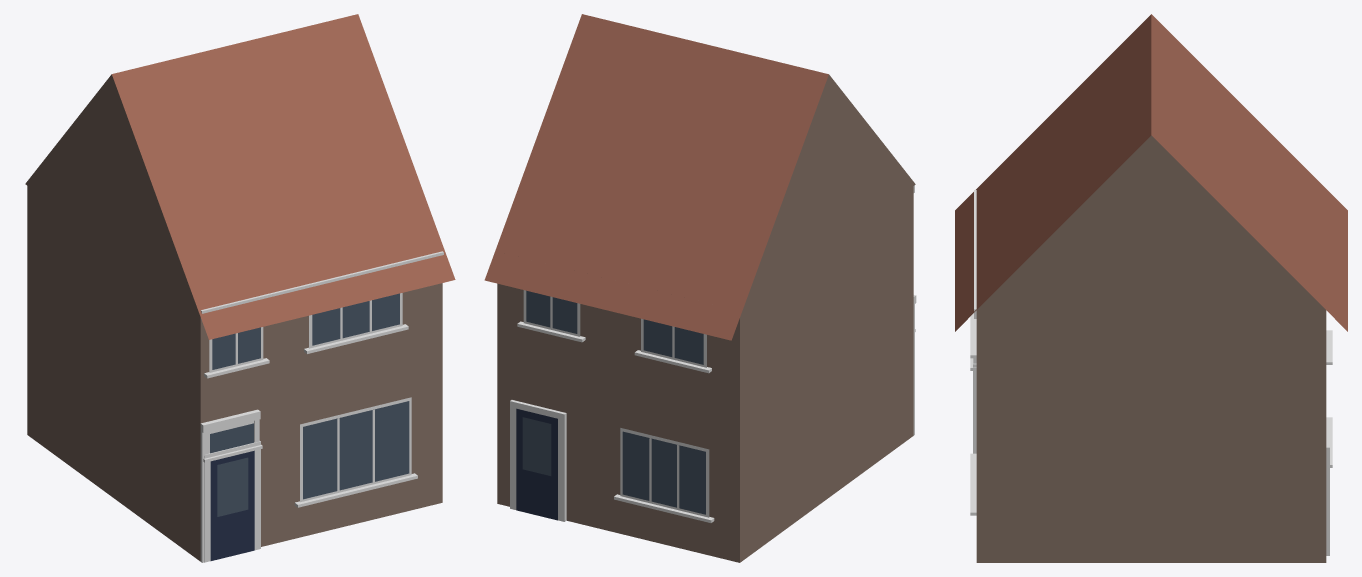
The model's file is nn-row__wide__2__gable__long__solid.glb.
3 views of the same model, side by side, from view 1: azimuth 30°, elevation 25°; view 2: azimuth 150°, elevation 25°; view 3: azimuth 270°, elevation 25° (orthographic).
Visible parts, largest first — view 1: nn-row__wide__2__gable__long__solid; view 2: nn-row__wide__2__gable__long__solid; view 3: nn-row__wide__2__gable__long__solid.
Boxes of the visible parts, left/top/right/bottom form: nn-row__wide__2__gable__long__solid: left=25, top=14, right=455, bottom=562; nn-row__wide__2__gable__long__solid: left=484, top=14, right=916, bottom=562; nn-row__wide__2__gable__long__solid: left=955, top=14, right=1347, bottom=562.
Bounding box in the file's own units: 5.33 × 8.78 × 7.29.
